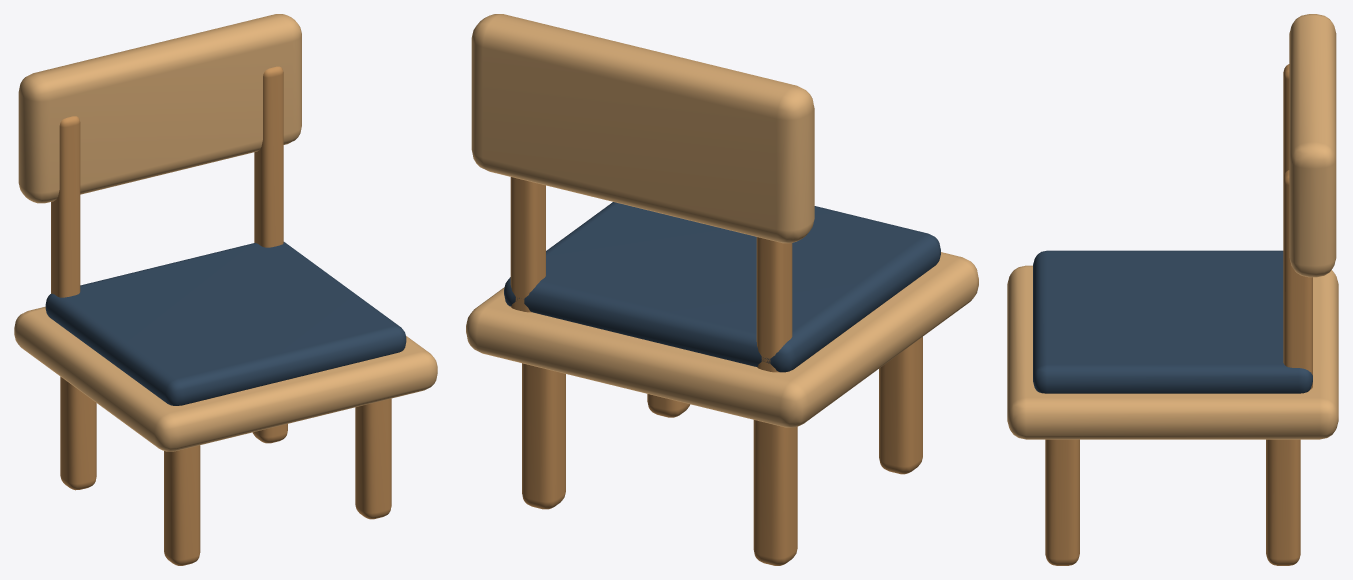
The model's file is cafe-chair.obj.
The picture shows the model from 3 angles, left to right: view 1: azimuth 30°, elevation 25°; view 2: azimuth 150°, elevation 25°; view 3: azimuth 270°, elevation 25°; orthographic projection. The views are drawn at different scales.
Parts seen in each view (by area): view 1: cafe-chair_oakLight, cafe-chair_navy, cafe-chair_oak; view 2: cafe-chair_oakLight, cafe-chair_navy, cafe-chair_oak; view 3: cafe-chair_navy, cafe-chair_oakLight, cafe-chair_oak.
Part boxes in pixels (x1,y1,x2,y2): cafe-chair_oakLight: [14, 14, 437, 451]; cafe-chair_navy: [45, 242, 406, 405]; cafe-chair_oak: [51, 66, 391, 565]; cafe-chair_oakLight: [466, 14, 978, 427]; cafe-chair_navy: [504, 202, 940, 372]; cafe-chair_oak: [510, 177, 922, 565]; cafe-chair_navy: [1033, 250, 1312, 393]; cafe-chair_oakLight: [1007, 14, 1338, 439]; cafe-chair_oak: [1045, 64, 1312, 565].
Bounding box in the file's own units: 0.47 × 0.65 × 0.45.
